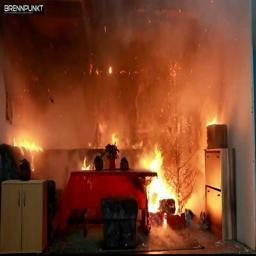fire: (5, 113, 198, 221)
